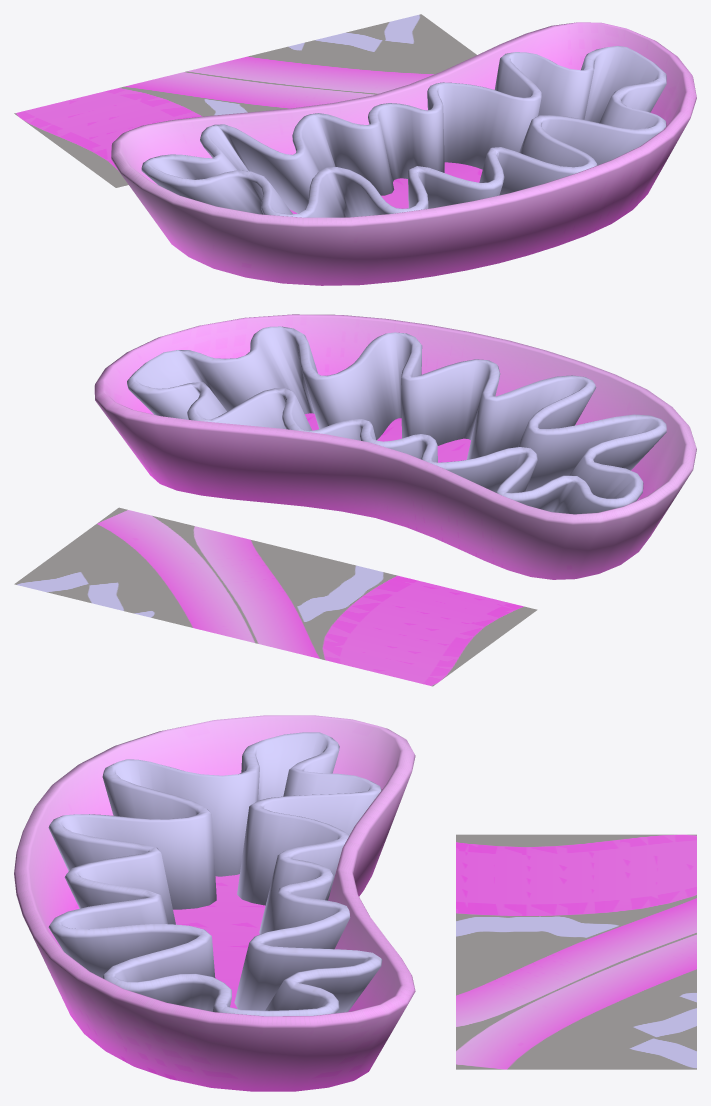
File: mitochondria.fbx
3 views of the same model, one above another, from view 1: azimuth 30°, elevation 25°; view 2: azimuth 150°, elevation 25°; view 3: azimuth 270°, elevation 25° (orthographic). The views are drawn at different scales.
Visible parts, largest first — view 1: mitochondria, mitochondria text; view 2: mitochondria, mitochondria text; view 3: mitochondria, mitochondria text.
Boxes of the visible parts, x1,y1,x2,y2 form: mitochondria: [111, 22, 696, 285]; mitochondria text: [14, 14, 476, 187]; mitochondria: [94, 314, 696, 579]; mitochondria text: [14, 507, 537, 686]; mitochondria: [14, 715, 415, 1091]; mitochondria text: [456, 834, 696, 1069].
Bounding box in the file's own units: 0.0595 × 0.00859 × 0.0555.
Materials: 2 (2 with a texture image).
